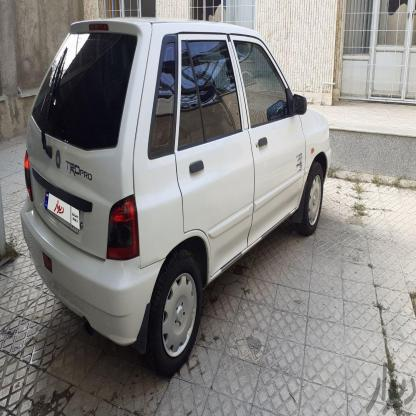Car: (20, 2, 332, 378)
